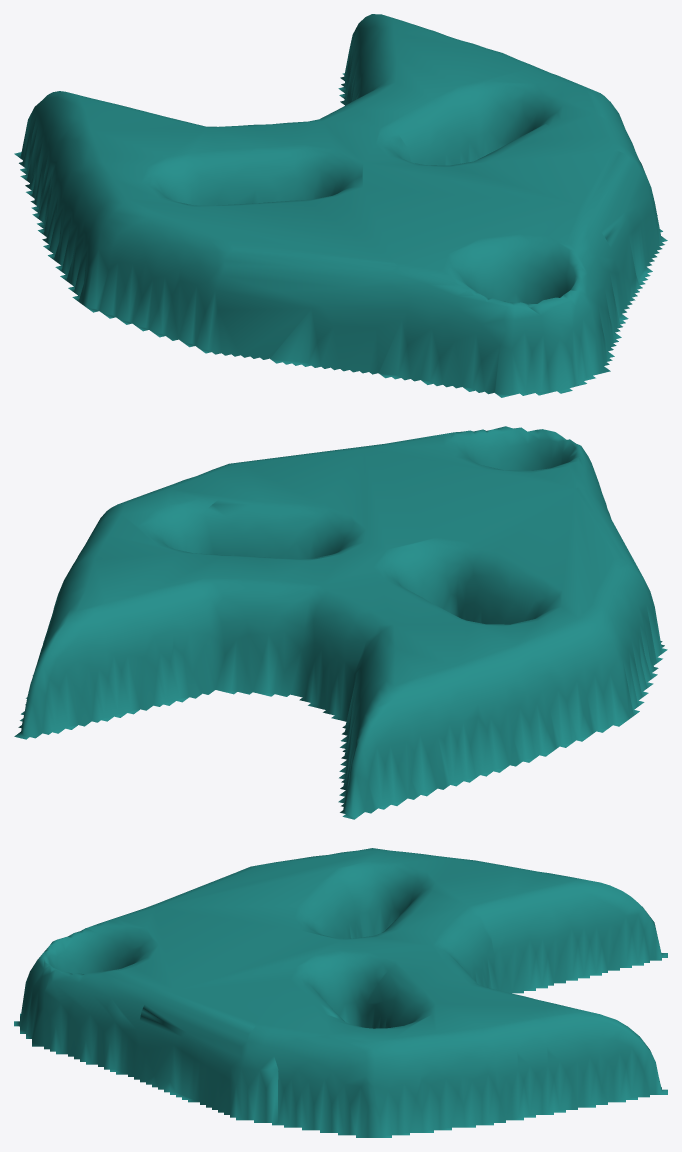
File: decoration-hunter-draco.glb
3 renders of one model, top to bottom at view 1: azimuth 30°, elevation 25°; view 2: azimuth 150°, elevation 25°; view 3: azimuth 270°, elevation 25°, orthographic. The views are drawn at different scales.
Parts seen in each view (by area): view 1: decoration_hunter; view 2: decoration_hunter; view 3: decoration_hunter.
Boxes of the visible parts, x1=… form: decoration_hunter: x1=14, y1=14, x2=667, y2=397; decoration_hunter: x1=14, y1=426, x2=667, y2=819; decoration_hunter: x1=14, y1=848, x2=667, y2=1137.
Bounding box in the file's own units: 0.162 × 0.026 × 0.1962.
